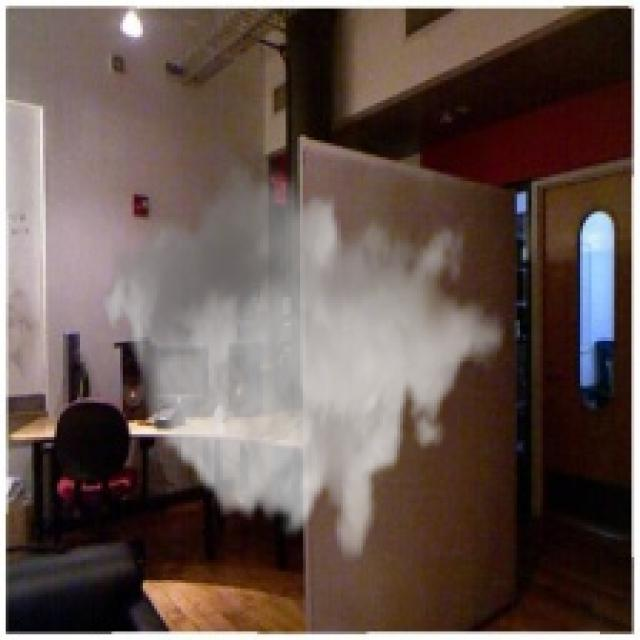smoke: (97, 148, 506, 566)
